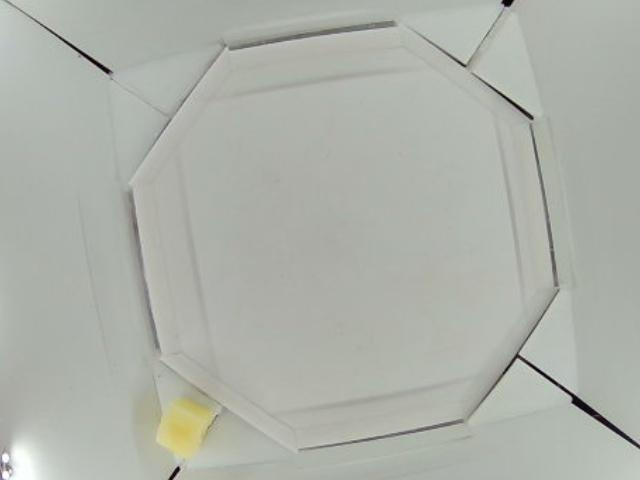Potato: (155, 395, 216, 459)
